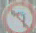Don't turn left: (1, 1, 35, 31)
